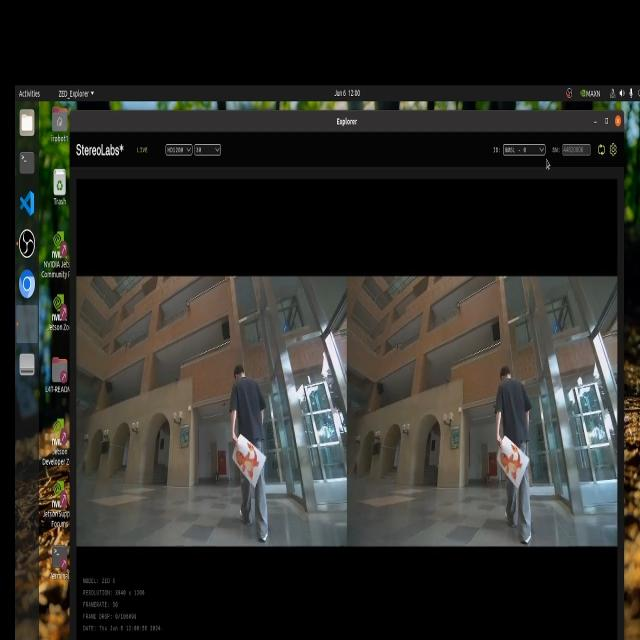red: (225, 438, 269, 490), (498, 437, 526, 482)
